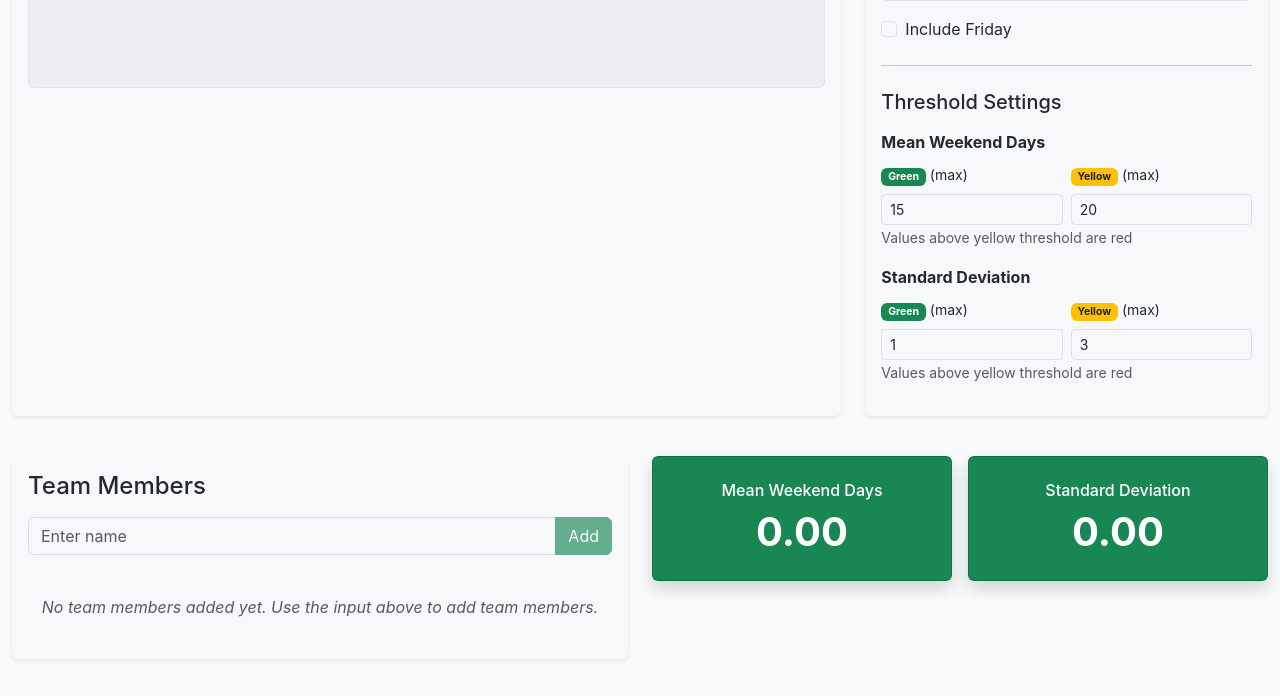
Test: App › localStorage functionality › stores team members in localStorage when added
(page scrolled)
// Add a team member
Step 1. Type "Alice" into the field with placeholder "Enter name" → coordinates (292, 536), box [28,517,556,555]
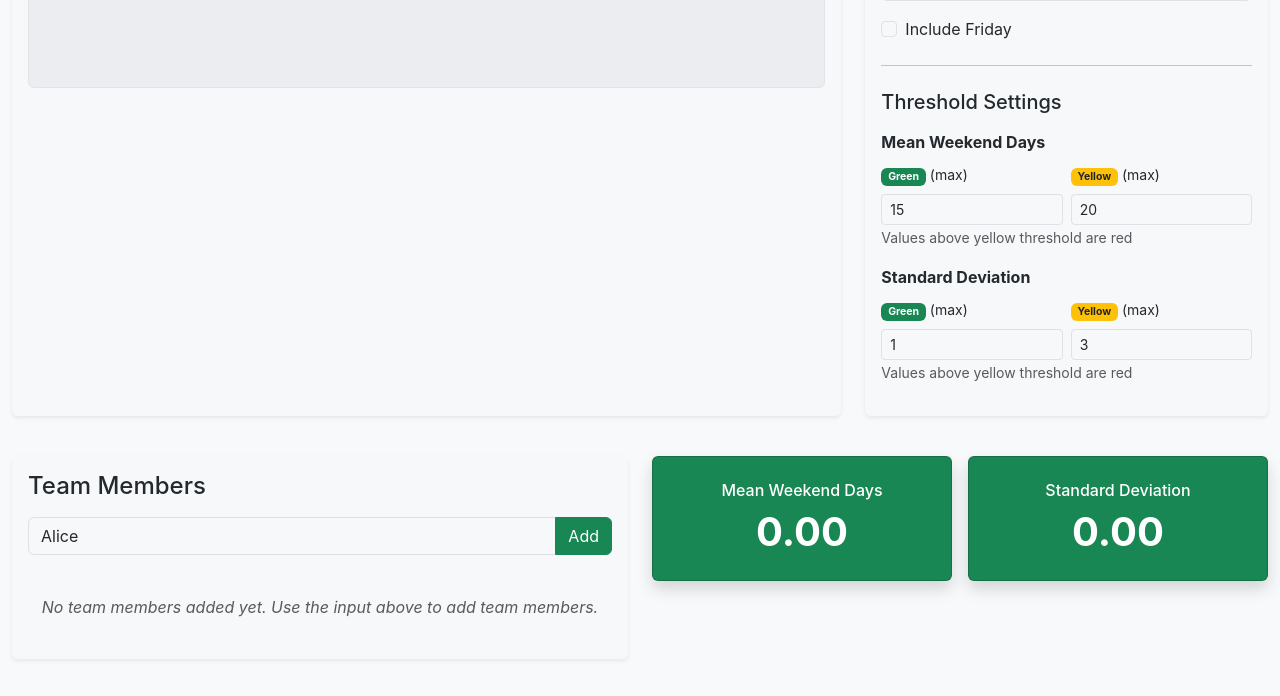
Step 2. Click the button "Add" → coordinates (584, 536), box [555,517,612,555]
(page scrolled)
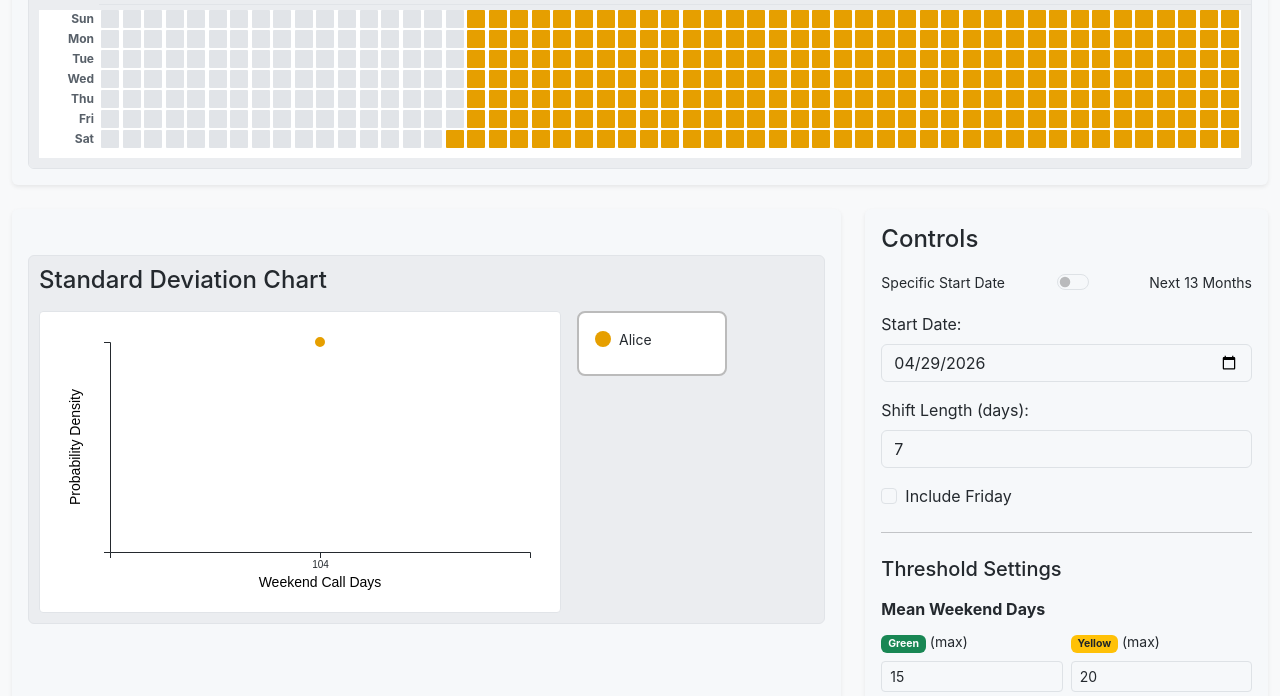
Expected: the text "Alice" is shown, [619,329,652,350]
